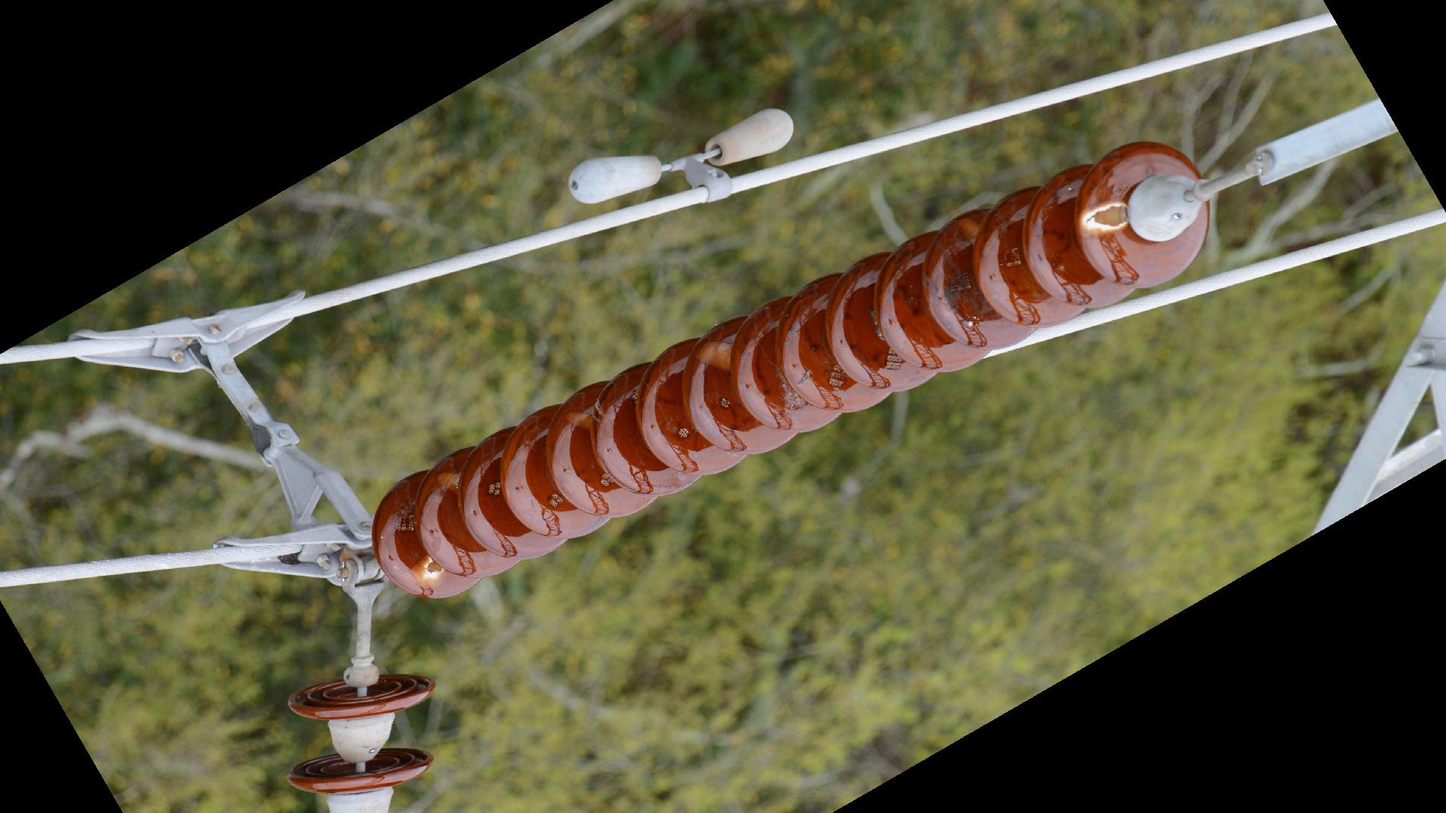insulator: (366, 135, 1213, 607), (276, 668, 441, 813)
insulator_flashover: (1080, 199, 1131, 232), (692, 339, 738, 374), (409, 556, 445, 584)
